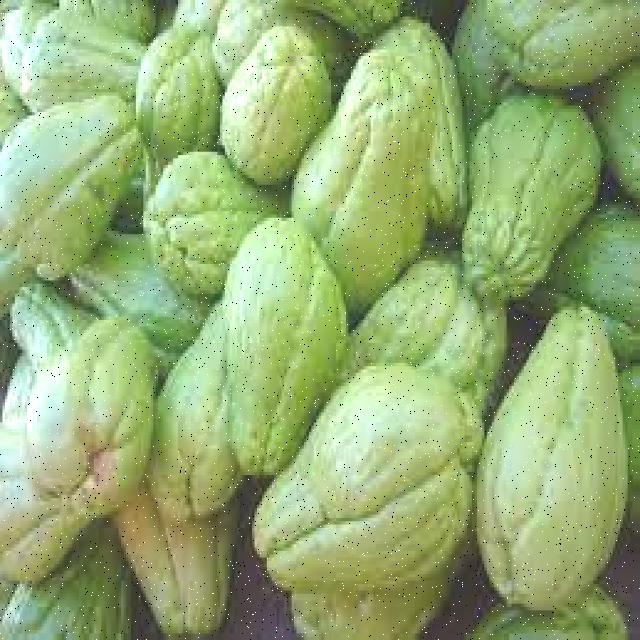Chayote: (277, 370, 483, 619), (478, 290, 632, 588), (24, 295, 160, 548), (2, 97, 152, 310), (214, 210, 329, 479), (460, 75, 585, 317), (304, 62, 424, 301), (222, 25, 328, 194)
